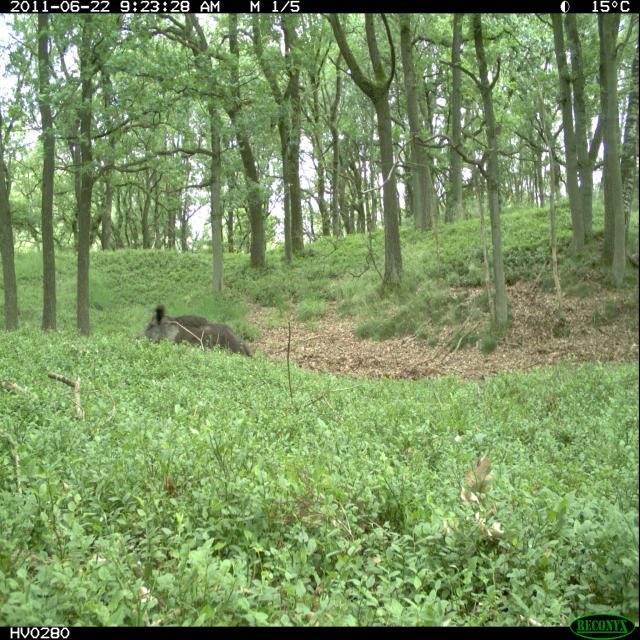boar: (133, 275, 272, 374)
